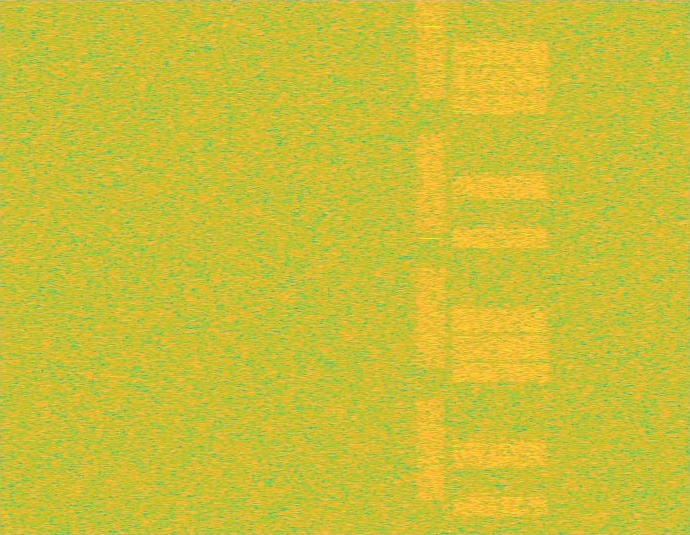5G: (414, 0, 449, 534)
LTE: (449, 0, 552, 534)
Radar: (424, 0, 438, 534)
